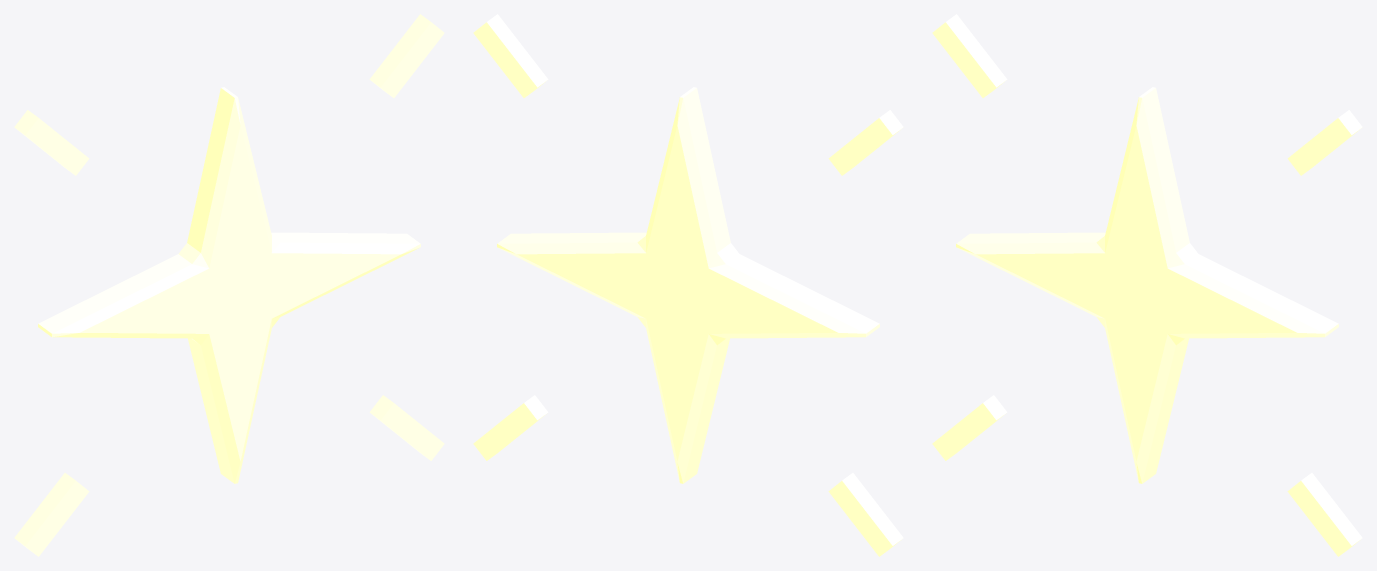
File: spark_star_big.glb
3 renders of one model, left to right at view 1: azimuth 30°, elevation 25°; view 2: azimuth 150°, elevation 25°; view 3: azimuth 330°, elevation 25°, orthographic.
Visible parts, largest first — view 1: spark_star_big; view 2: spark_star_big; view 3: spark_star_big.
Boxes of the visible parts, x1,y1,x2,y2 form: spark_star_big: (14, 14, 444, 556); spark_star_big: (473, 14, 903, 556); spark_star_big: (932, 14, 1362, 556).
Bounding box in the file's own units: 0.1754 × 0.1754 × 0.016.
